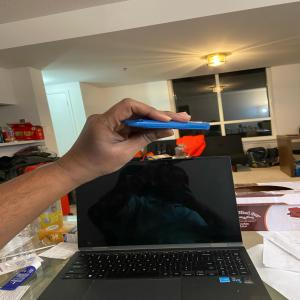Diamond-E-Ciggirate: (120, 115, 213, 133)
